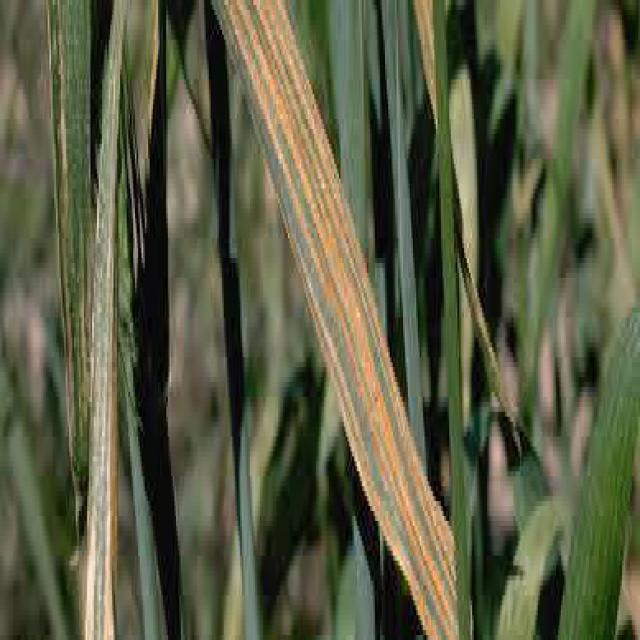wheat-yellowrust: (212, 0, 461, 640), (79, 0, 128, 640)
